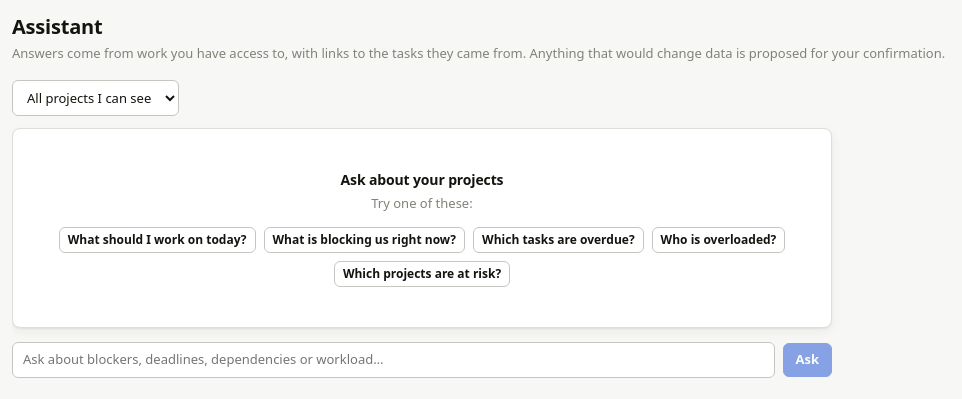
Test: Assistant › drops a ref the server did not resolve rather than linking nowhere
Type "Anything late?" into the field named "Question" at [393, 360], box [12,342,774,378]
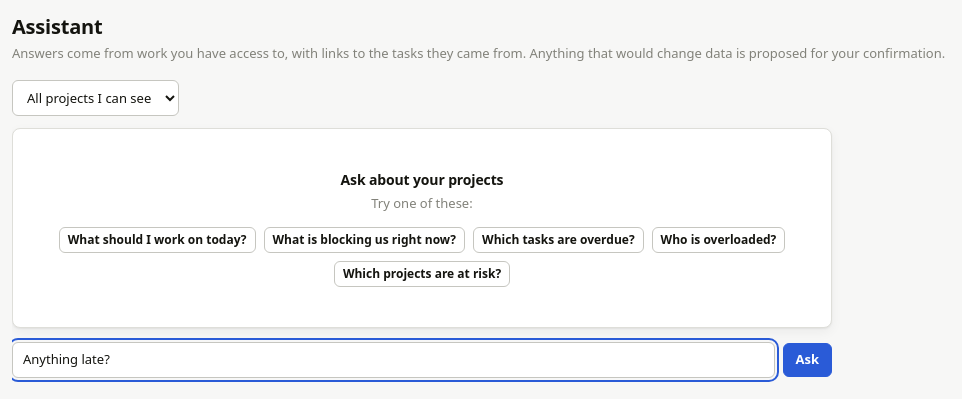
Click the button "Ask" at [807, 360], box [782,343,832,376]
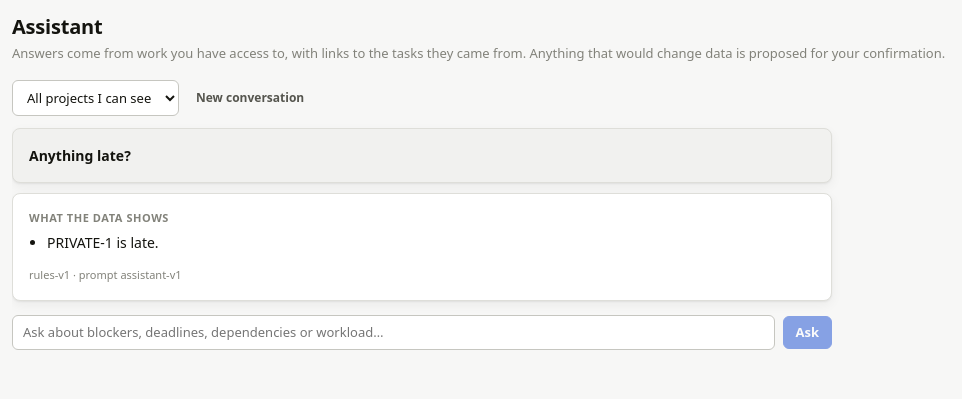
Expected: the list item "PRIVATE-1 is late." is shown, [47,233,159,252]
